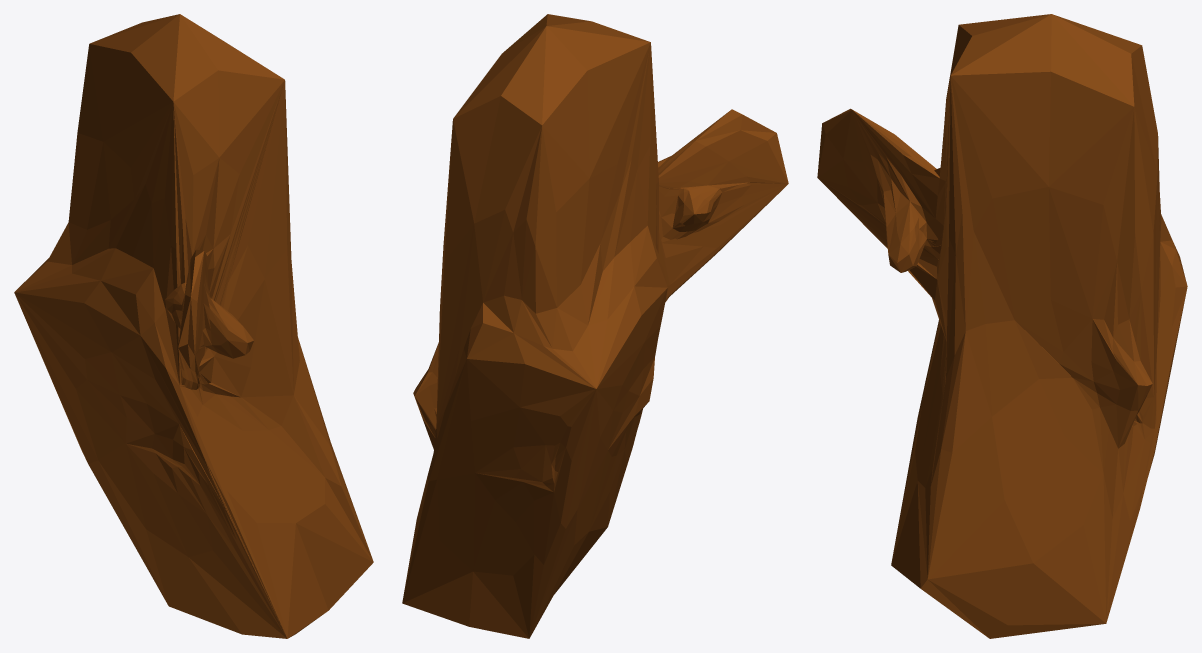
3 views of the same model, side by side, from view 1: azimuth 30°, elevation 25°; view 2: azimuth 150°, elevation 25°; view 3: azimuth 270°, elevation 25° (orthographic). The views are drawn at different scales.
Visible parts, largest first — view 1: 181_Cube.751; view 2: 181_Cube.751; view 3: 181_Cube.751.
Boxes of the visible parts, <box> form: 181_Cube.751: <box>14,14,373,638</box>; 181_Cube.751: <box>402,14,788,638</box>; 181_Cube.751: <box>817,14,1187,638</box>.
Size of the model in its own units: 7.68 by 18.06 by 10.34.
